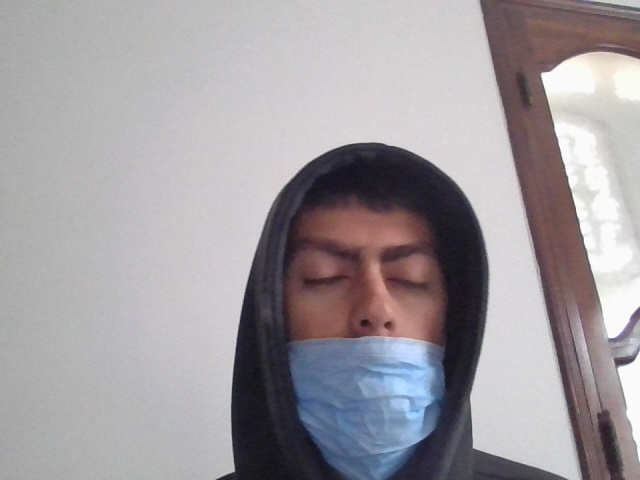mask_weared_incorrect: (258, 176, 479, 479)
